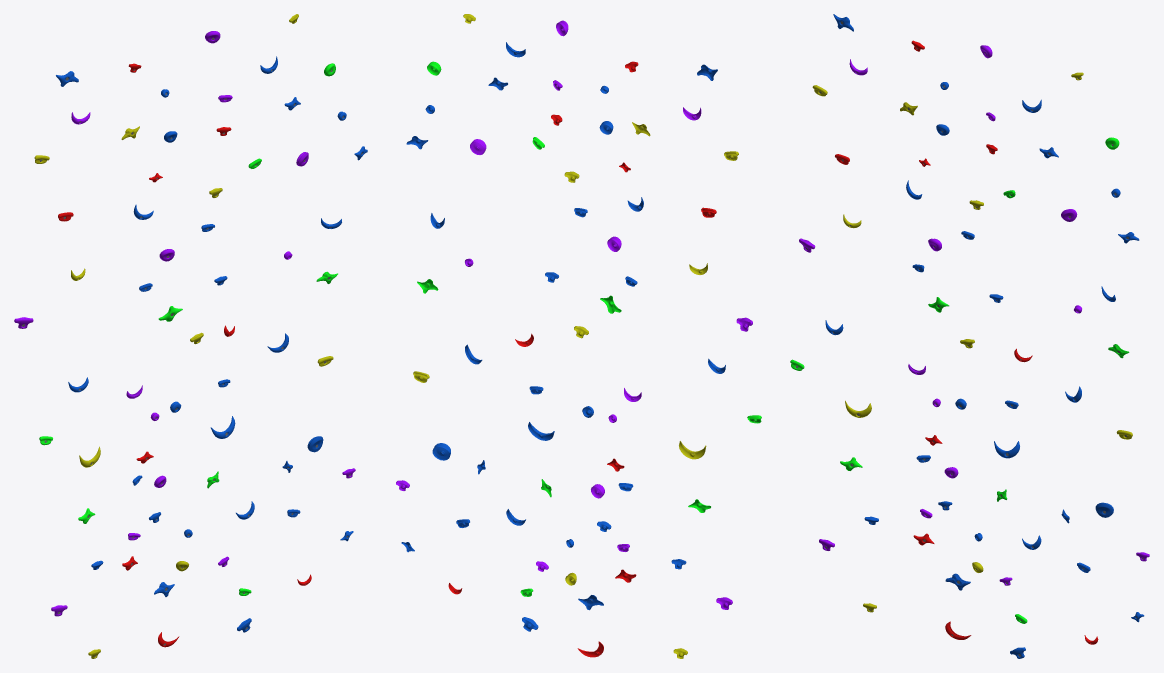
The model's file is SM_Climbing_Holders.FBX.
3 views of the same model, side by side, from view 1: azimuth 30°, elevation 25°; view 2: azimuth 150°, elevation 25°; view 3: azimuth 330°, elevation 25° (orthographic).
Size of the model in its own units: 236 by 32.02 by 398.
